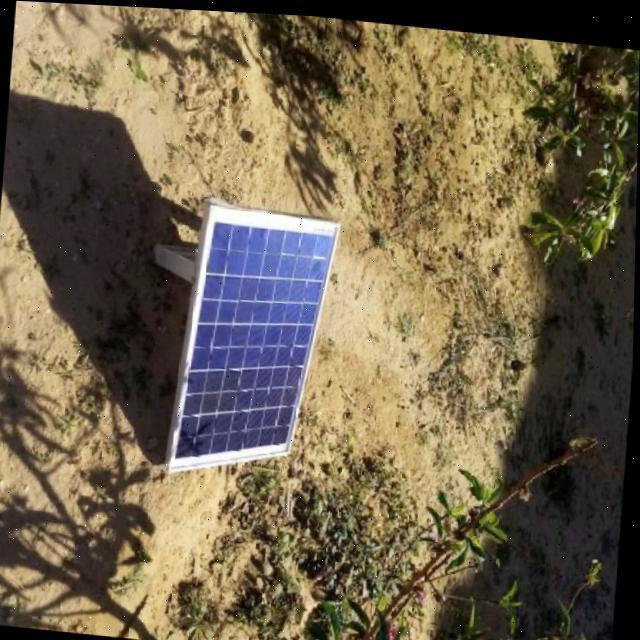Normal Solar Panel: (170, 198, 340, 484)
